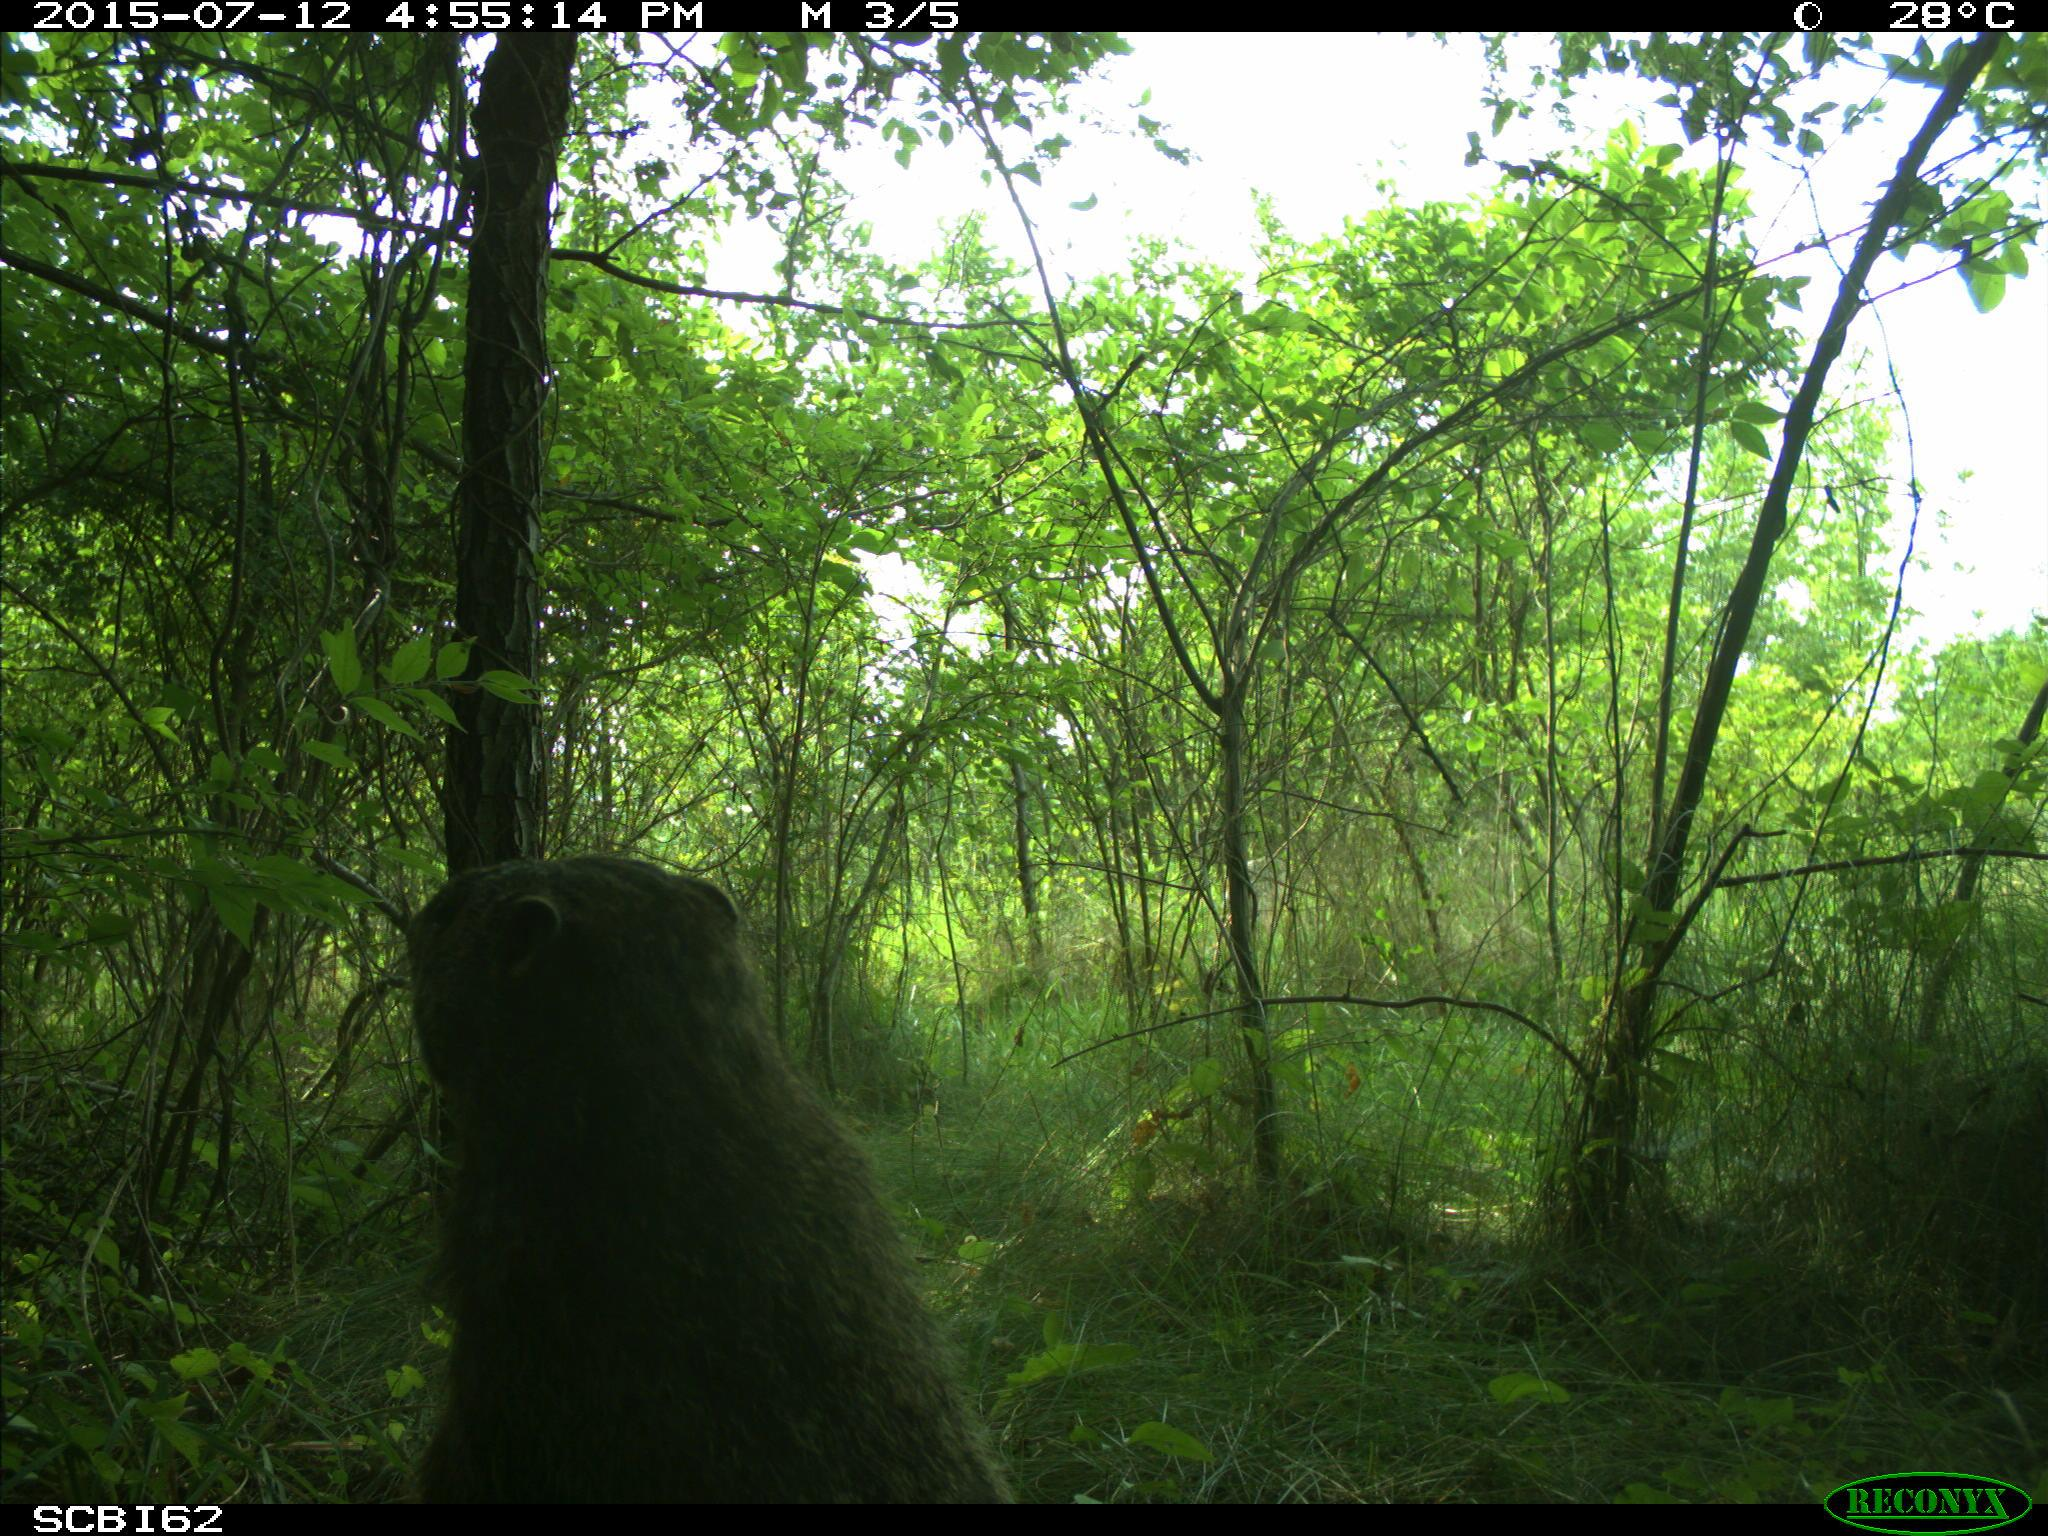Animal: (418, 854, 1016, 1512)
